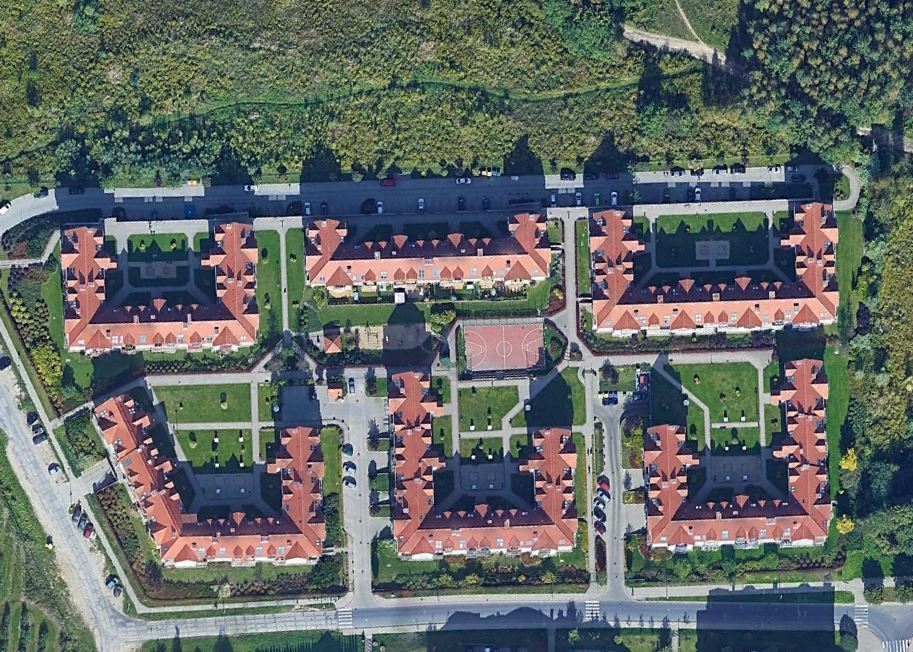block of flats: (88, 388, 328, 569), (636, 354, 837, 556), (382, 366, 581, 561), (584, 194, 844, 340), (54, 215, 265, 361), (299, 208, 555, 294)
